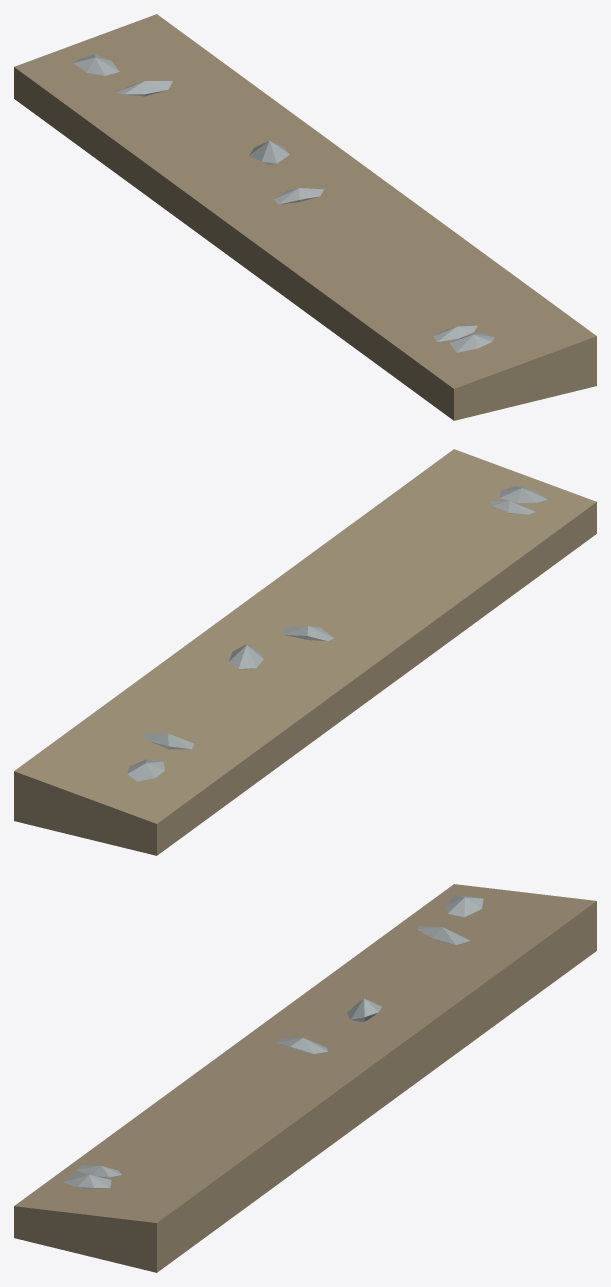
File: river_bank_eroded.glb
3 views of the same model, one above another, from view 1: azimuth 30°, elevation 25°; view 2: azimuth 150°, elevation 25°; view 3: azimuth 330°, elevation 25° (orthographic).
Visible parts, largest first — view 1: river_bank_eroded; view 2: river_bank_eroded; view 3: river_bank_eroded.
Part boxes in pixels (x1=…): river_bank_eroded: x1=14, y1=14, x2=596, y2=420; river_bank_eroded: x1=14, y1=449, x2=596, y2=855; river_bank_eroded: x1=14, y1=884, x2=596, y2=1272.
Size of the model in its own units: 1.5 by 0.6454 by 8.
